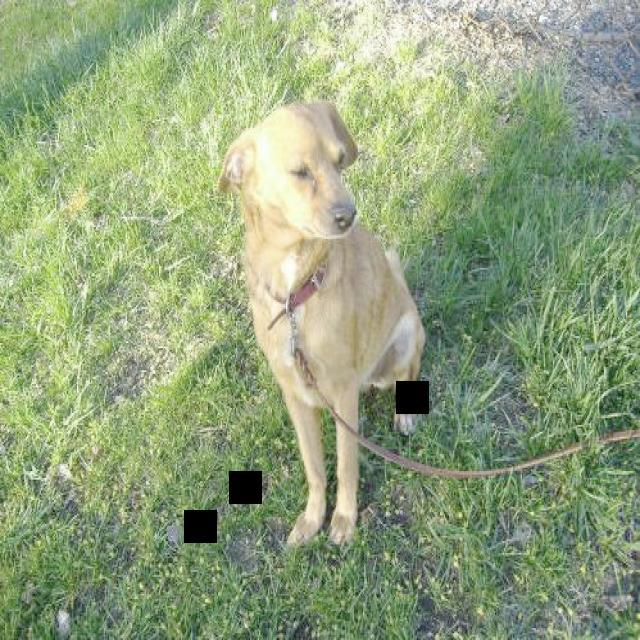adult_dog: (215, 101, 429, 550)
